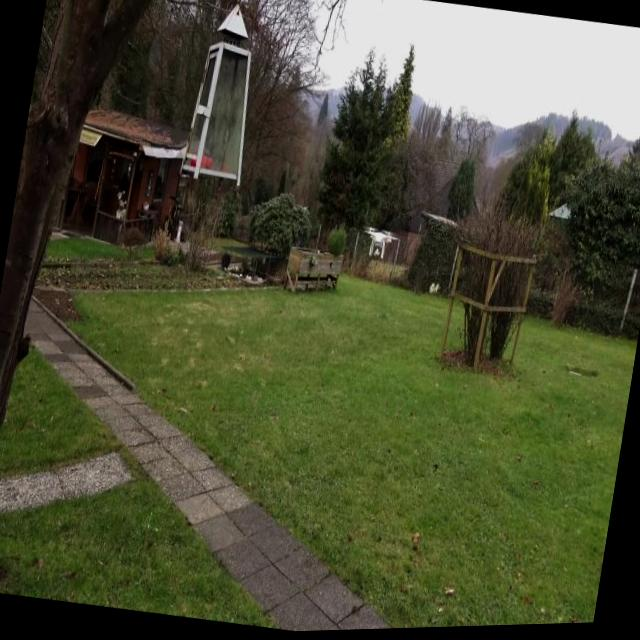drone: (359, 223, 402, 266)
